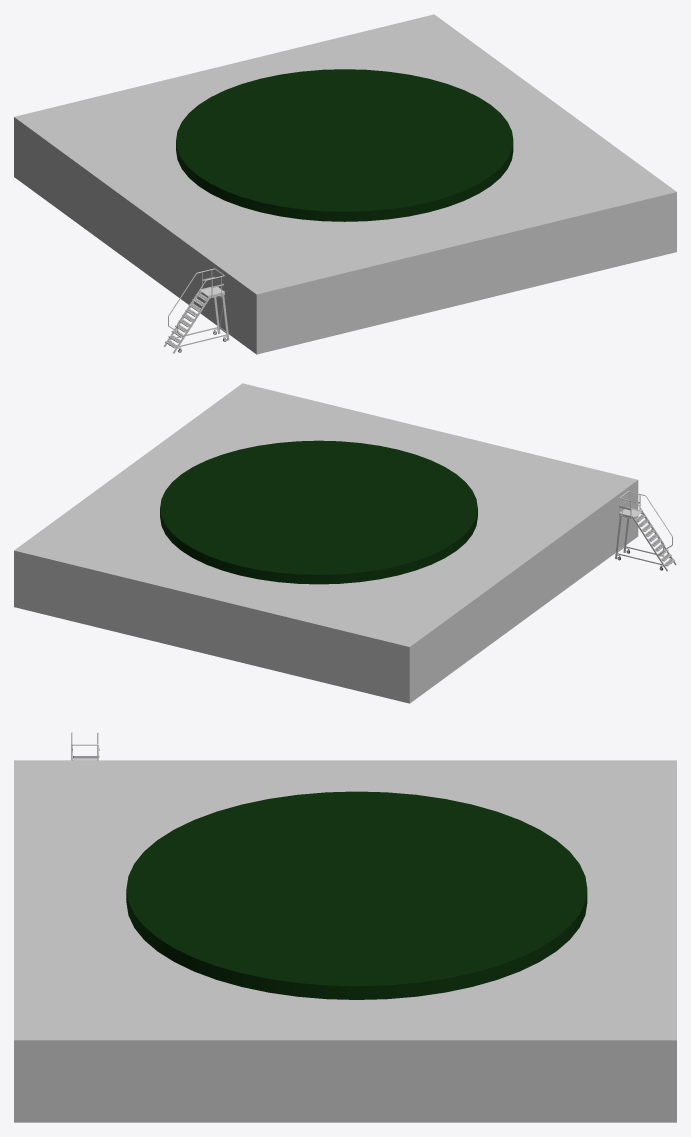
File: enshinryokusouchi-daiza2.fbx
3 views of the same model, one above another, from view 1: azimuth 30°, elevation 25°; view 2: azimuth 150°, elevation 25°; view 3: azimuth 270°, elevation 25° (orthographic). The views are drawn at different scales.
Parts seen in each view (by area): view 1: 立方体, 円柱, Object_3; view 2: 立方体, 円柱, Object_3; view 3: 立方体, 円柱.
Part boxes in pixels (bbox=[...]): 立方体: bbox=[14, 14, 676, 354]; 円柱: bbox=[176, 69, 513, 221]; Object_3: bbox=[163, 268, 229, 353]; 立方体: bbox=[14, 383, 638, 703]; 円柱: bbox=[160, 440, 477, 584]; Object_3: bbox=[615, 491, 676, 571]; 立方体: bbox=[14, 760, 676, 1122]; 円柱: bbox=[126, 791, 587, 999].
Size of the model in its own units: 45.45 by 6.31 by 39.58.
